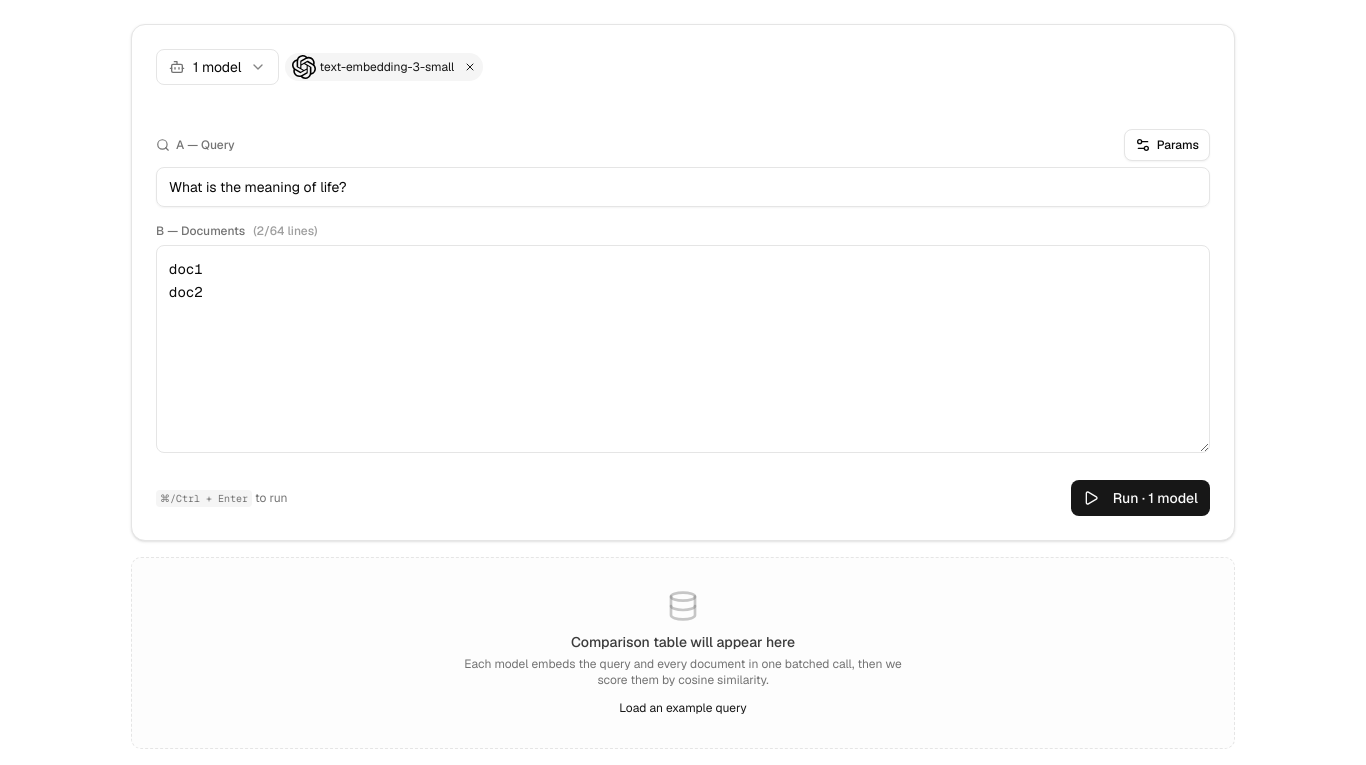
Test: EmbeddingPlayground — submit flow › stringifies a non-Error rejection
This screenshot has width=1366, height=765.
Step 1. Click the button "Run · 1 model" → click(1140, 498), box [1071,480,1210,516]
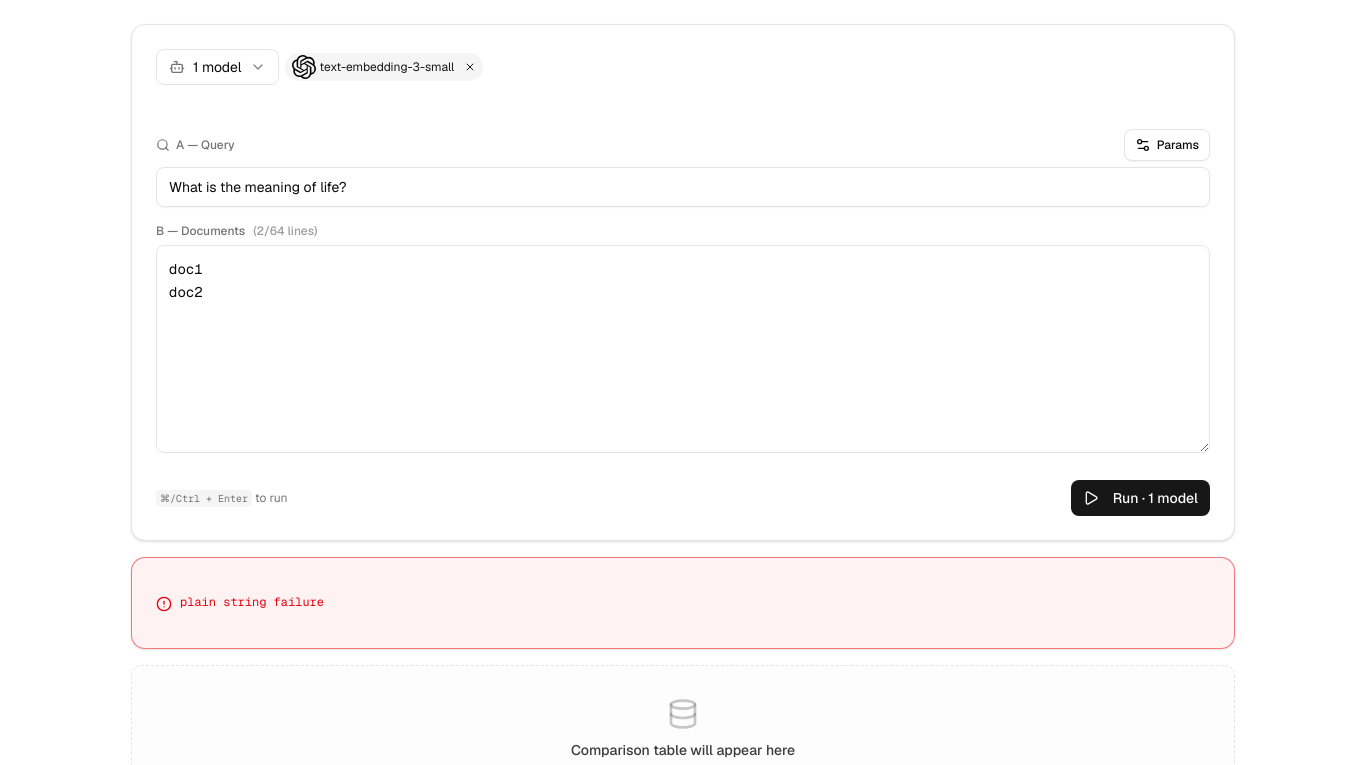
Now the text "plain string failure" is shown, box [180,594,324,610]
